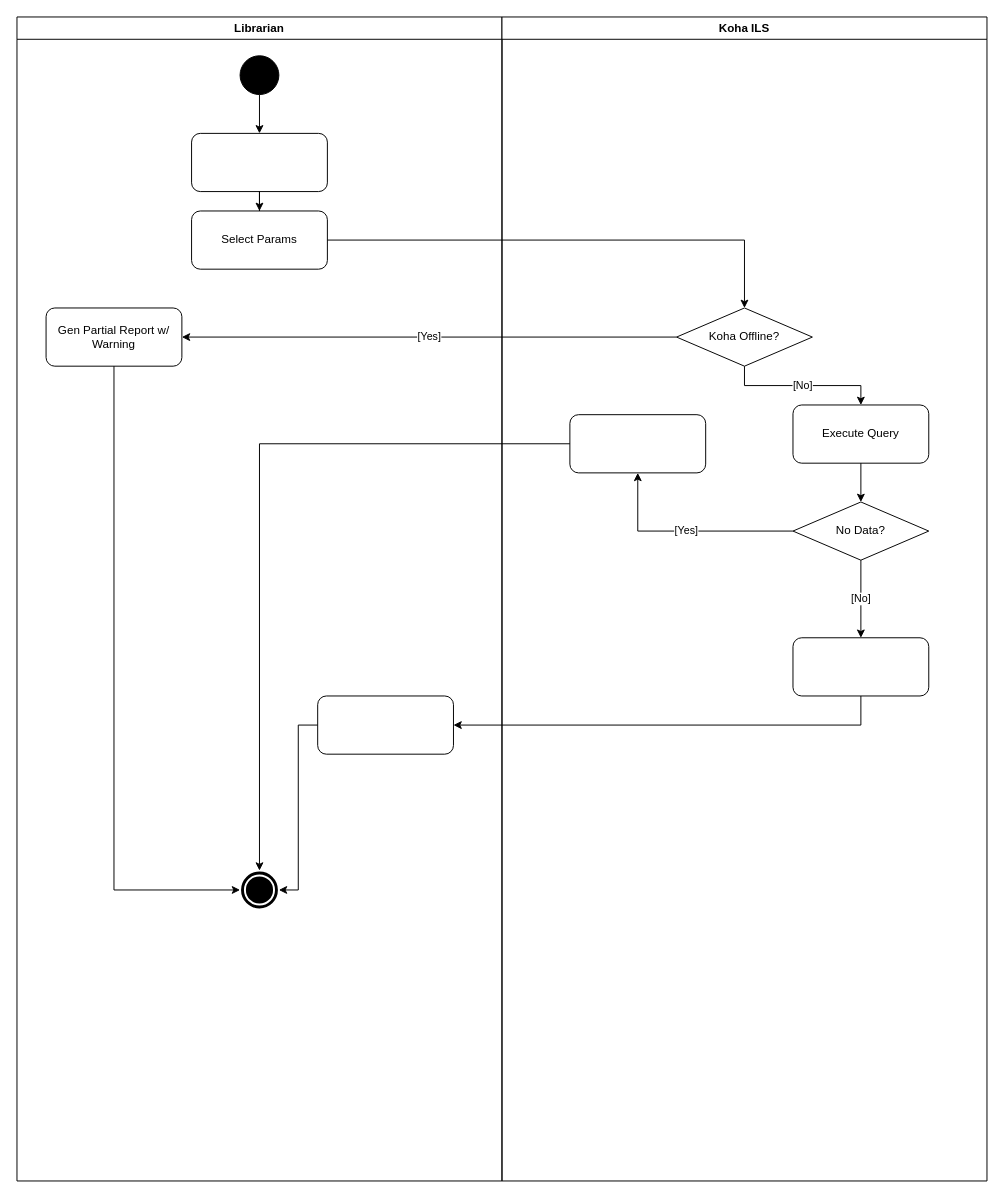
Some shapes in this 1004 by 1198 pixel diagram are drawn without their labels. Here are the shapes that lost their labels. From the top down, the centre of each, then its label:
pixel 259 162: Login Koha
pixel 637 443: Empty Notif
pixel 860 666: Generate PDF/Excel
pixel 385 724: Download File
